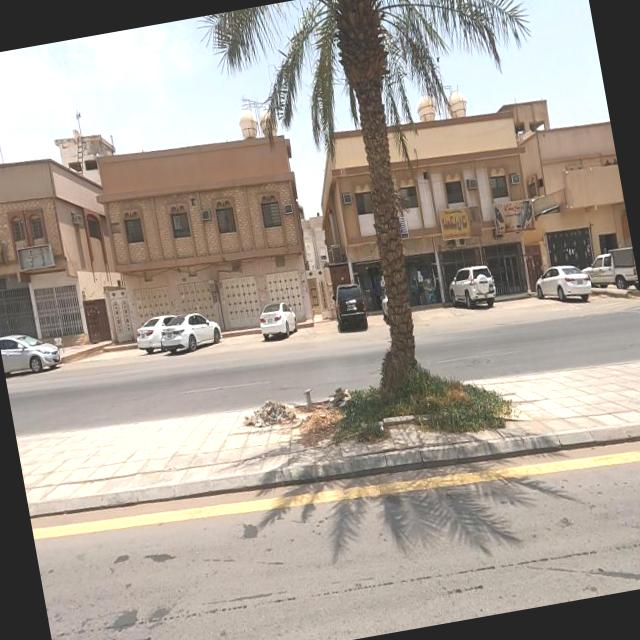debris: (0, 213, 96, 307)
